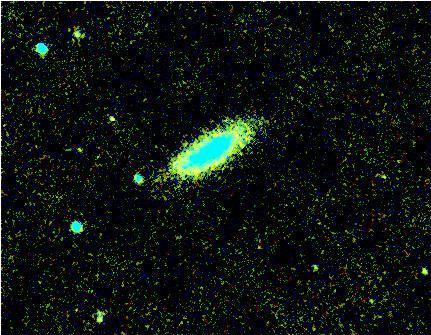star: (99, 106, 129, 136)
